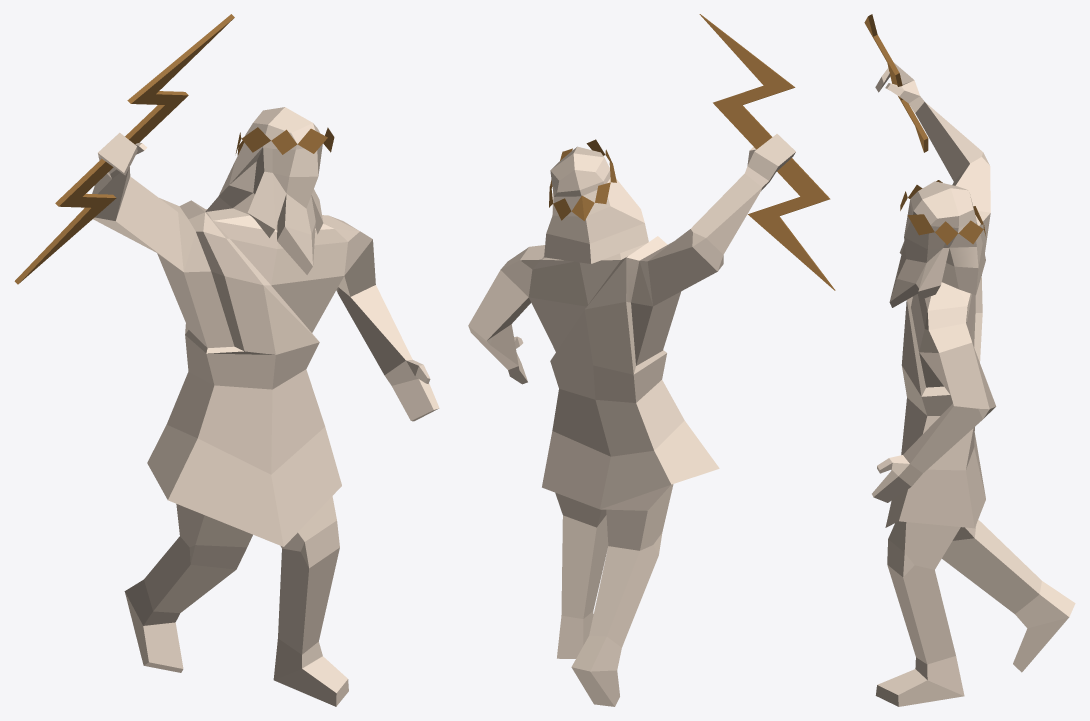
Rendered from empire-statue-small-zeus-empire.glb.
The picture shows the model from 3 angles, left to right: view 1: azimuth 30°, elevation 25°; view 2: azimuth 150°, elevation 25°; view 3: azimuth 270°, elevation 25°; orthographic projection. The views are drawn at different scales.
Parts seen in each view (by area): view 1: SM_Statue_Small_Zeus_Empire; view 2: SM_Statue_Small_Zeus_Empire; view 3: SM_Statue_Small_Zeus_Empire.
Part boxes in pixels (bbox=[...]): SM_Statue_Small_Zeus_Empire: bbox=[14, 14, 439, 706]; SM_Statue_Small_Zeus_Empire: bbox=[468, 14, 835, 706]; SM_Statue_Small_Zeus_Empire: bbox=[864, 14, 1075, 706].
Size of the model in its own units: 1.27 by 2.24 by 0.6664.
